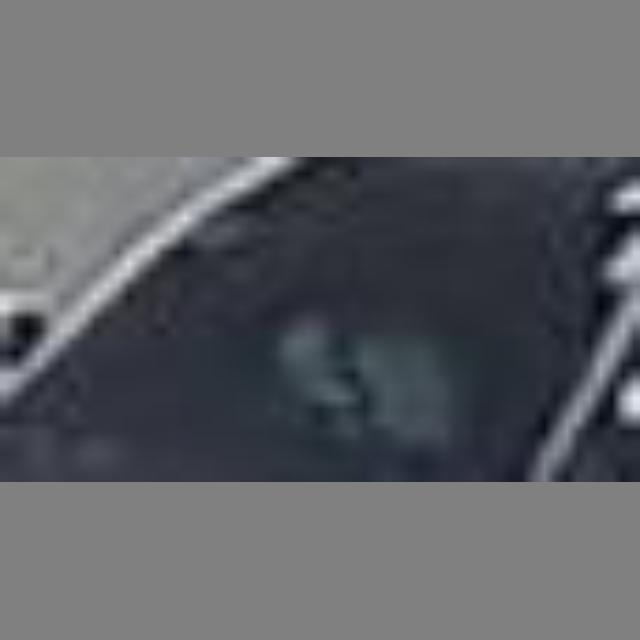pakai: (258, 258, 472, 449)
